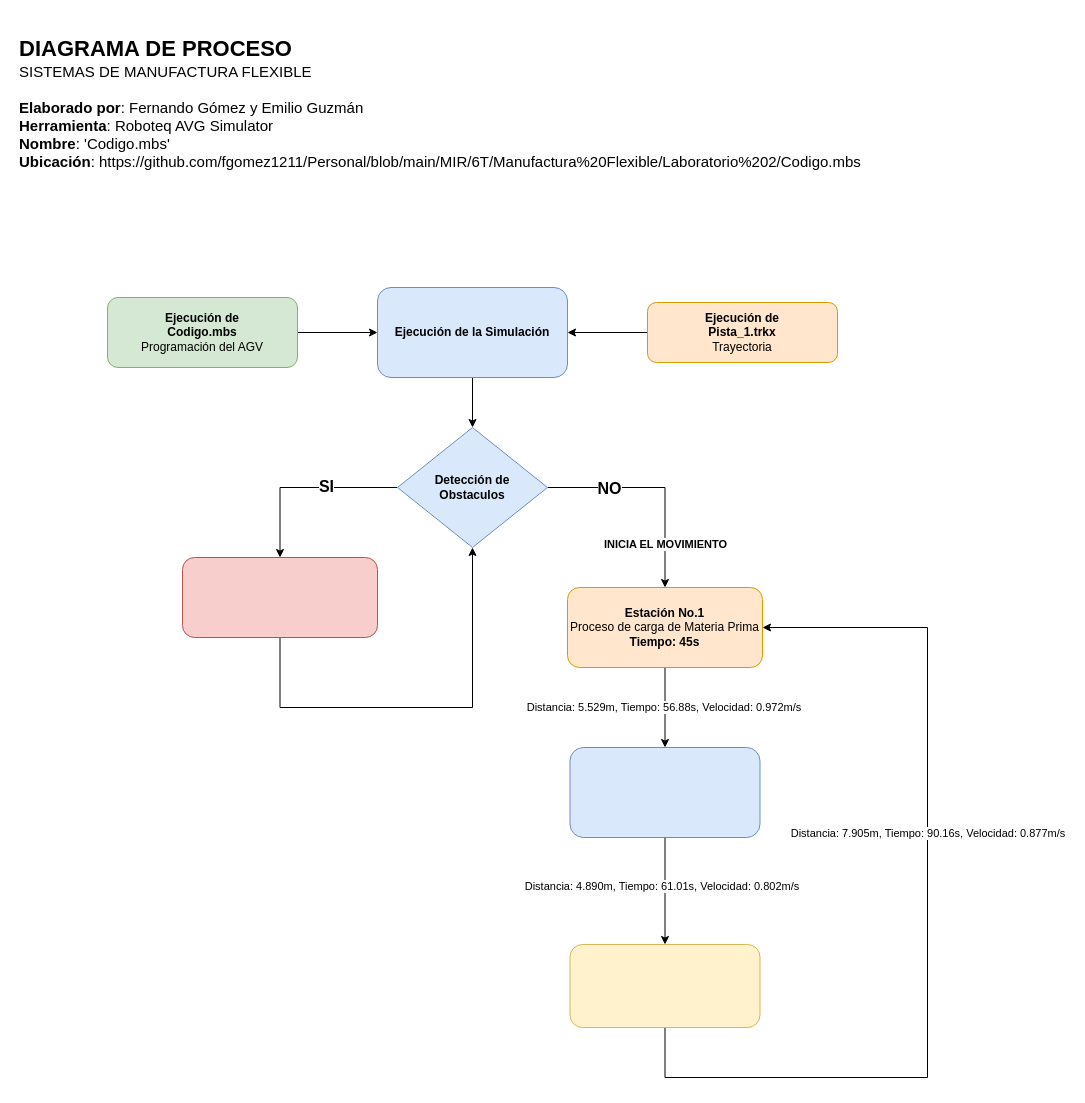
The diagram is 1085 pixels wide and 1103 high, and some of its shapes have lost their labels. The shapes that lost their labels are listed below. From the top down, each one's box as (x1, y1, x2, y2) in pixels, then its label:
(182, 556, 378, 638): Se detiene el AGV hasta que se remueva el objeto
(569, 746, 760, 838): Estación No.2 Proceso de descarga de Materia Prima Tiempo: 40s
(569, 944, 760, 1028): Estación No.3 Proceso de descarga final de Materia Prima Tiempo: 30s
